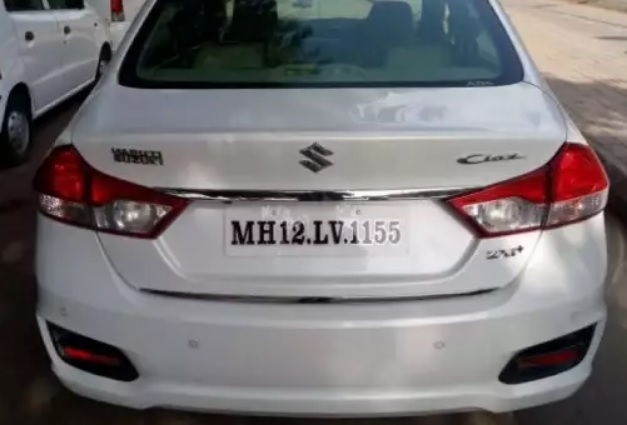licenseplate: (223, 196, 413, 258)
